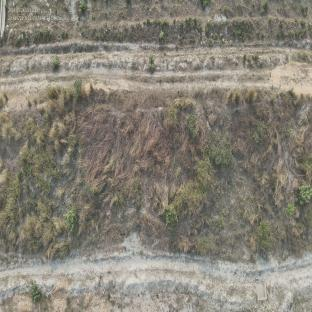vegetation: (0, 125, 80, 252), (158, 129, 236, 227)
